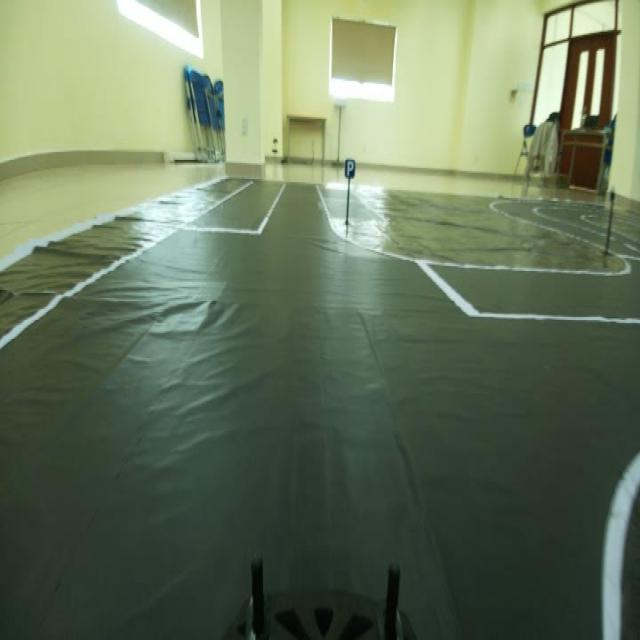parking: (342, 147, 359, 187)
